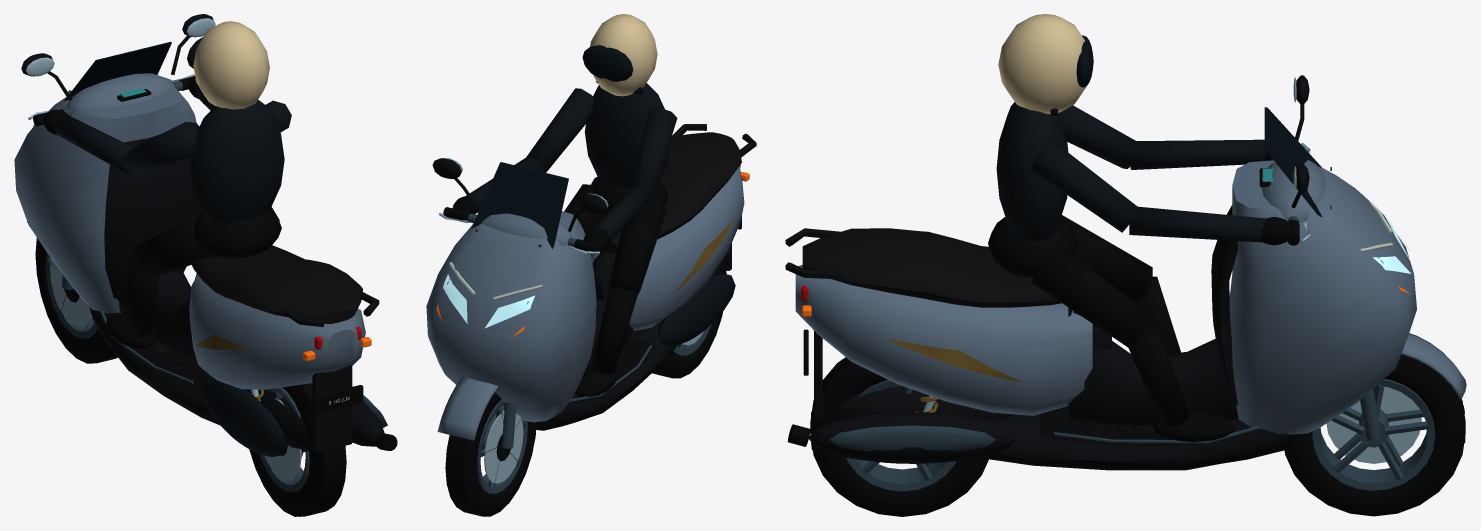
The model's file is Body.fbx.
The picture shows the model from 3 angles, left to right: view 1: azimuth 30°, elevation 25°; view 2: azimuth 150°, elevation 25°; view 3: azimuth 270°, elevation 25°; orthographic projection. The views are drawn at different scales.
Visible parts, largest first — view 1: Body_Mesh, Helmeted_Traffic_Rider, Wheel_Rear_Mesh, Steering_Pivot_Mesh, Wheel_Front_Mesh; view 2: Body_Mesh, Helmeted_Traffic_Rider, Wheel_Front_Mesh, Steering_Pivot_Mesh, Wheel_Rear_Mesh, Headlights_Mesh; view 3: Body_Mesh, Helmeted_Traffic_Rider, Wheel_Front_Mesh, Wheel_Rear_Mesh, Steering_Pivot_Mesh, Headlights_Mesh.
Boxes of the visible parts, <box> form: Body_Mesh: <box>14,41,397,456</box>; Helmeted_Traffic_Rider: <box>43,21,291,348</box>; Wheel_Rear_Mesh: <box>249,383,346,516</box>; Steering_Pivot_Mesh: <box>21,14,215,289</box>; Wheel_Front_Mesh: <box>35,237,117,363</box>; Body_Mesh: <box>426,124,756,430</box>; Helmeted_Traffic_Rider: <box>452,14,677,397</box>; Wheel_Front_Mesh: <box>445,392,536,516</box>; Steering_Pivot_Mesh: <box>432,158,608,448</box>; Wheel_Rear_Mesh: <box>652,258,726,378</box>; Headlights_Mesh: <box>443,262,542,328</box>; Body_Mesh: <box>785,107,1416,470</box>; Helmeted_Traffic_Rider: <box>988,14,1292,442</box>; Wheel_Front_Mesh: <box>1284,354,1465,516</box>; Wheel_Rear_Mesh: <box>810,357,988,516</box>; Steering_Pivot_Mesh: <box>1259,75,1466,440</box>; Headlights_Mesh: <box>1358,193,1411,273</box>.
Bounding box in the file's own units: 72 × 156 × 195.
